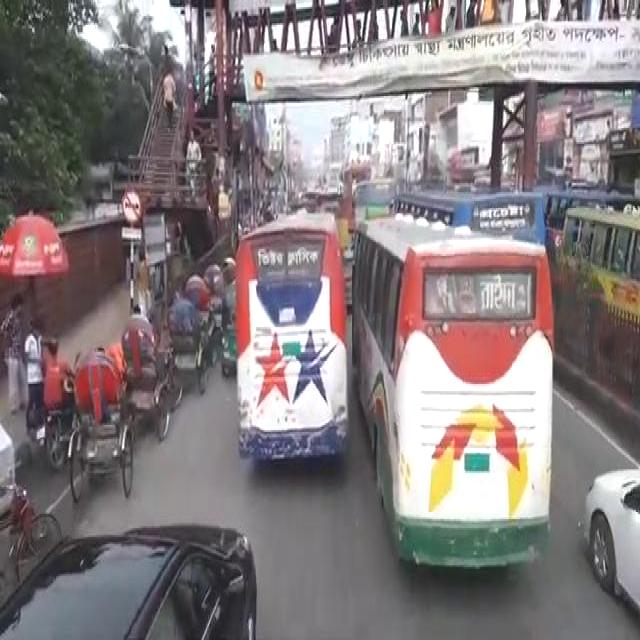BUS: (358, 225, 553, 570), (237, 228, 346, 477)
